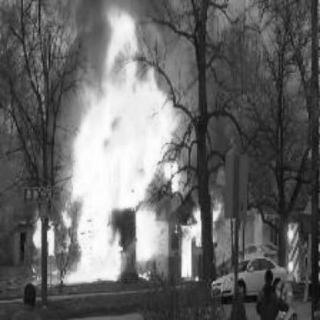Fire: (53, 11, 221, 273)
other: (282, 208, 306, 288)
